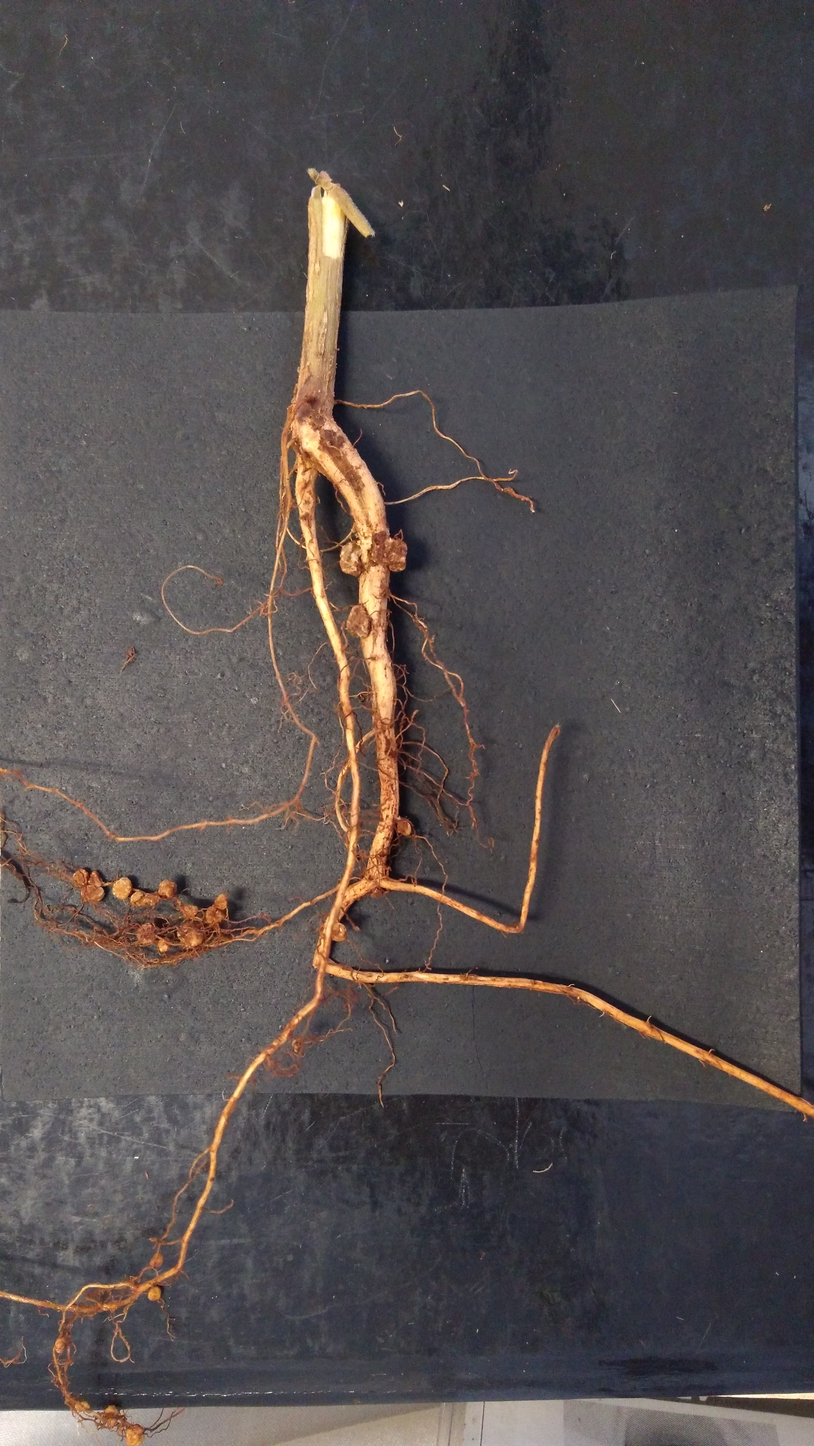nodule: (373, 533, 413, 575), (342, 601, 373, 648), (337, 537, 367, 582), (202, 904, 231, 927), (133, 921, 157, 947), (111, 876, 135, 901), (329, 918, 351, 945), (155, 878, 182, 900), (182, 929, 207, 951), (394, 815, 415, 841), (80, 884, 106, 905), (123, 1423, 146, 1445), (103, 1403, 121, 1430), (177, 901, 202, 920), (133, 893, 161, 909), (70, 867, 90, 889), (148, 1249, 166, 1271), (86, 869, 106, 888), (73, 1397, 93, 1415), (52, 1336, 73, 1353), (155, 936, 171, 957), (144, 1284, 162, 1302), (213, 892, 229, 912), (129, 890, 145, 903)
